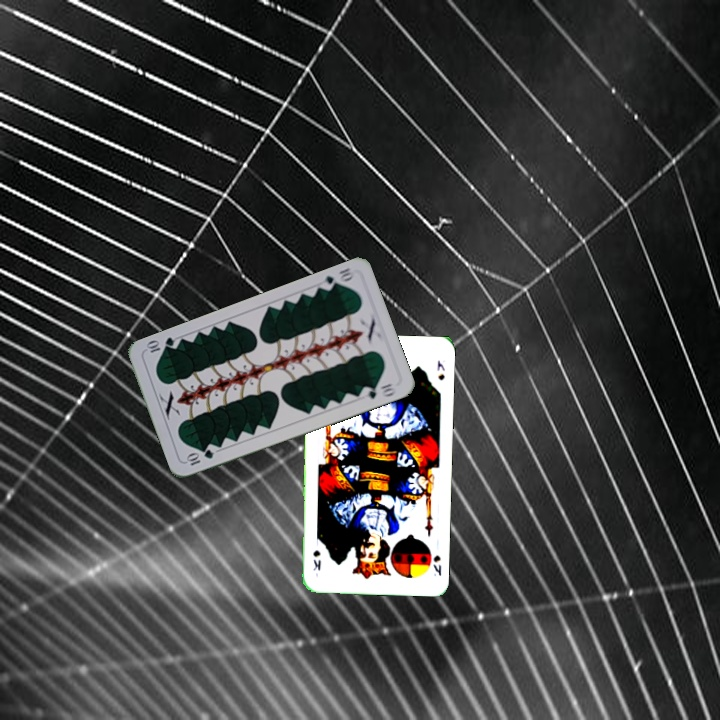G10: (319, 263, 356, 293), (182, 445, 216, 468)
SK: (429, 551, 444, 579)
